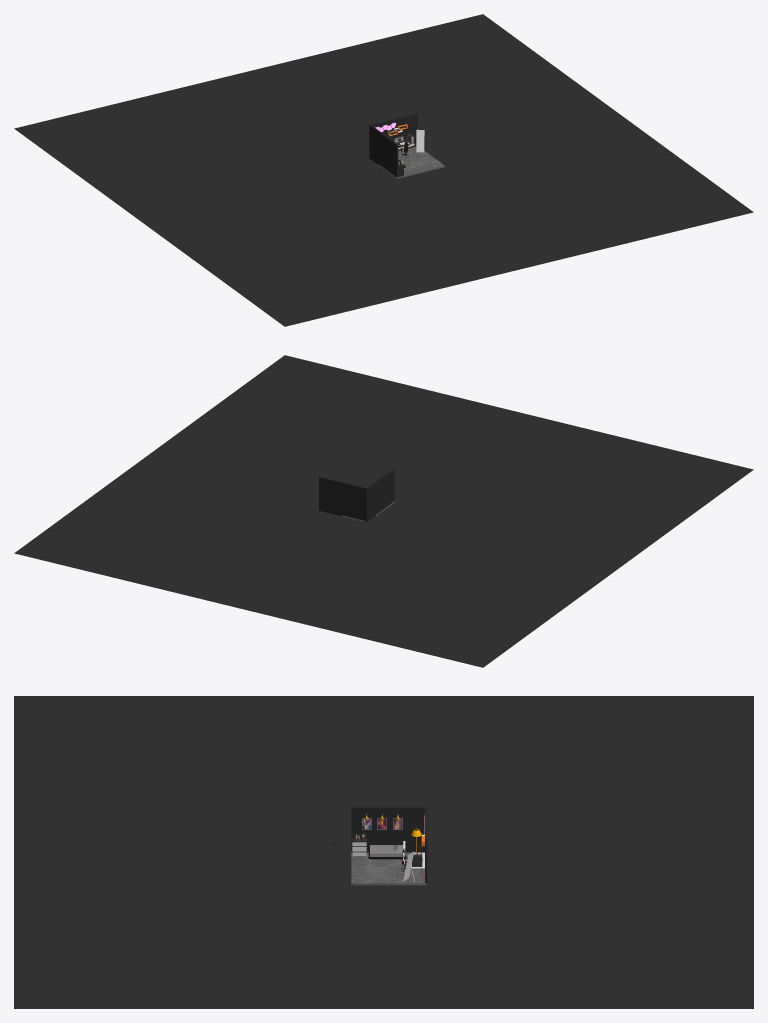
Rendered from game_room.glb.
The picture shows the model from 3 angles, top to bottom: view 1: azimuth 30°, elevation 25°; view 2: azimuth 150°, elevation 25°; view 3: azimuth 270°, elevation 25°; orthographic projection. The views are drawn at different scales.
Visible parts, largest first — view 1: Plane.001_81, Cube.001_117, Cube_116, Cube.003_118; view 2: Plane.001_81, Cube.003_118, Cube.001_117; view 3: Plane.001_81, Cube.001_117, Cube_116.
Boxes of the visible parts, x1=… form: Plane.001_81: x1=14, y1=14, x2=753, y2=326; Cube.001_117: x1=369, y1=125, x2=398, y2=177; Cube_116: x1=370, y1=146, x2=444, y2=178; Cube.003_118: x1=369, y1=113, x2=417, y2=150; Plane.001_81: x1=14, y1=355, x2=753, y2=667; Cube.003_118: x1=319, y1=476, x2=367, y2=520; Cube.001_117: x1=365, y1=468, x2=394, y2=522; Plane.001_81: x1=14, y1=696, x2=753, y2=1008; Cube.001_117: x1=351, y1=807, x2=427, y2=852; Cube_116: x1=351, y1=852, x2=426, y2=885.
Size of the model in its own units: 37.45 by 3.12 by 37.45.
Materials: 74 (14 with a texture image).
